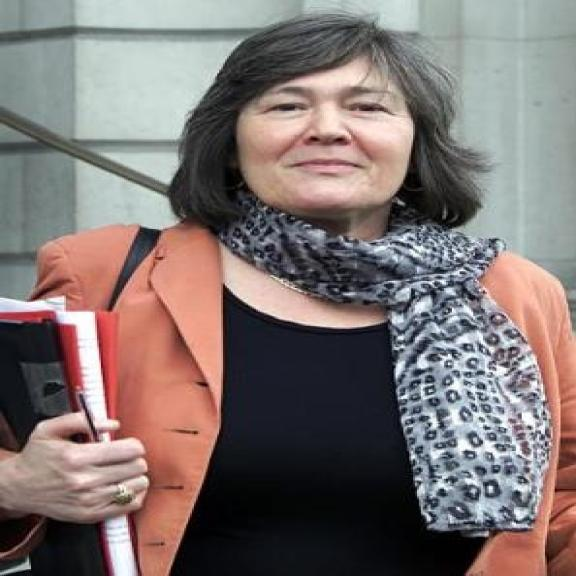face: (214, 52, 420, 217)
